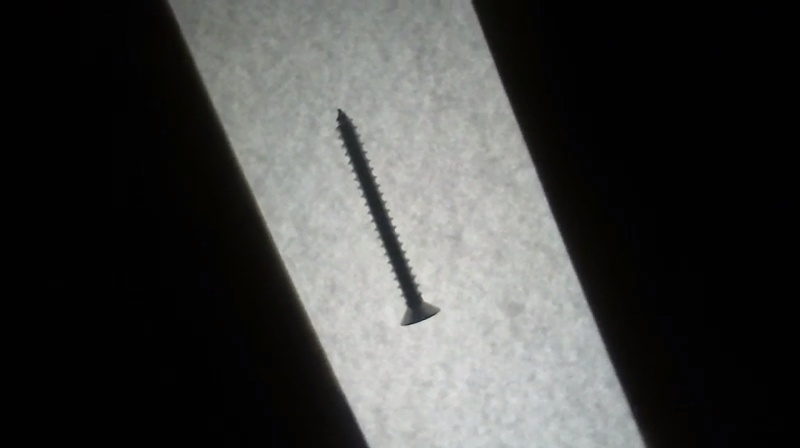S002: (333, 105, 444, 328)
